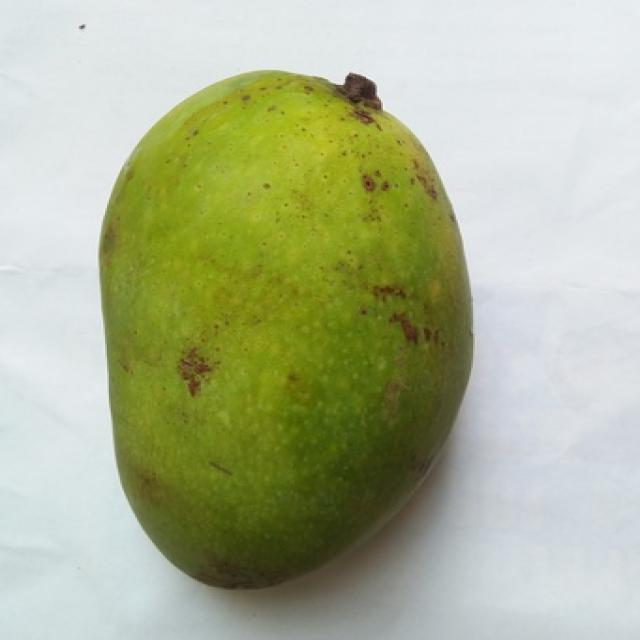Mango: (101, 71, 471, 585)
